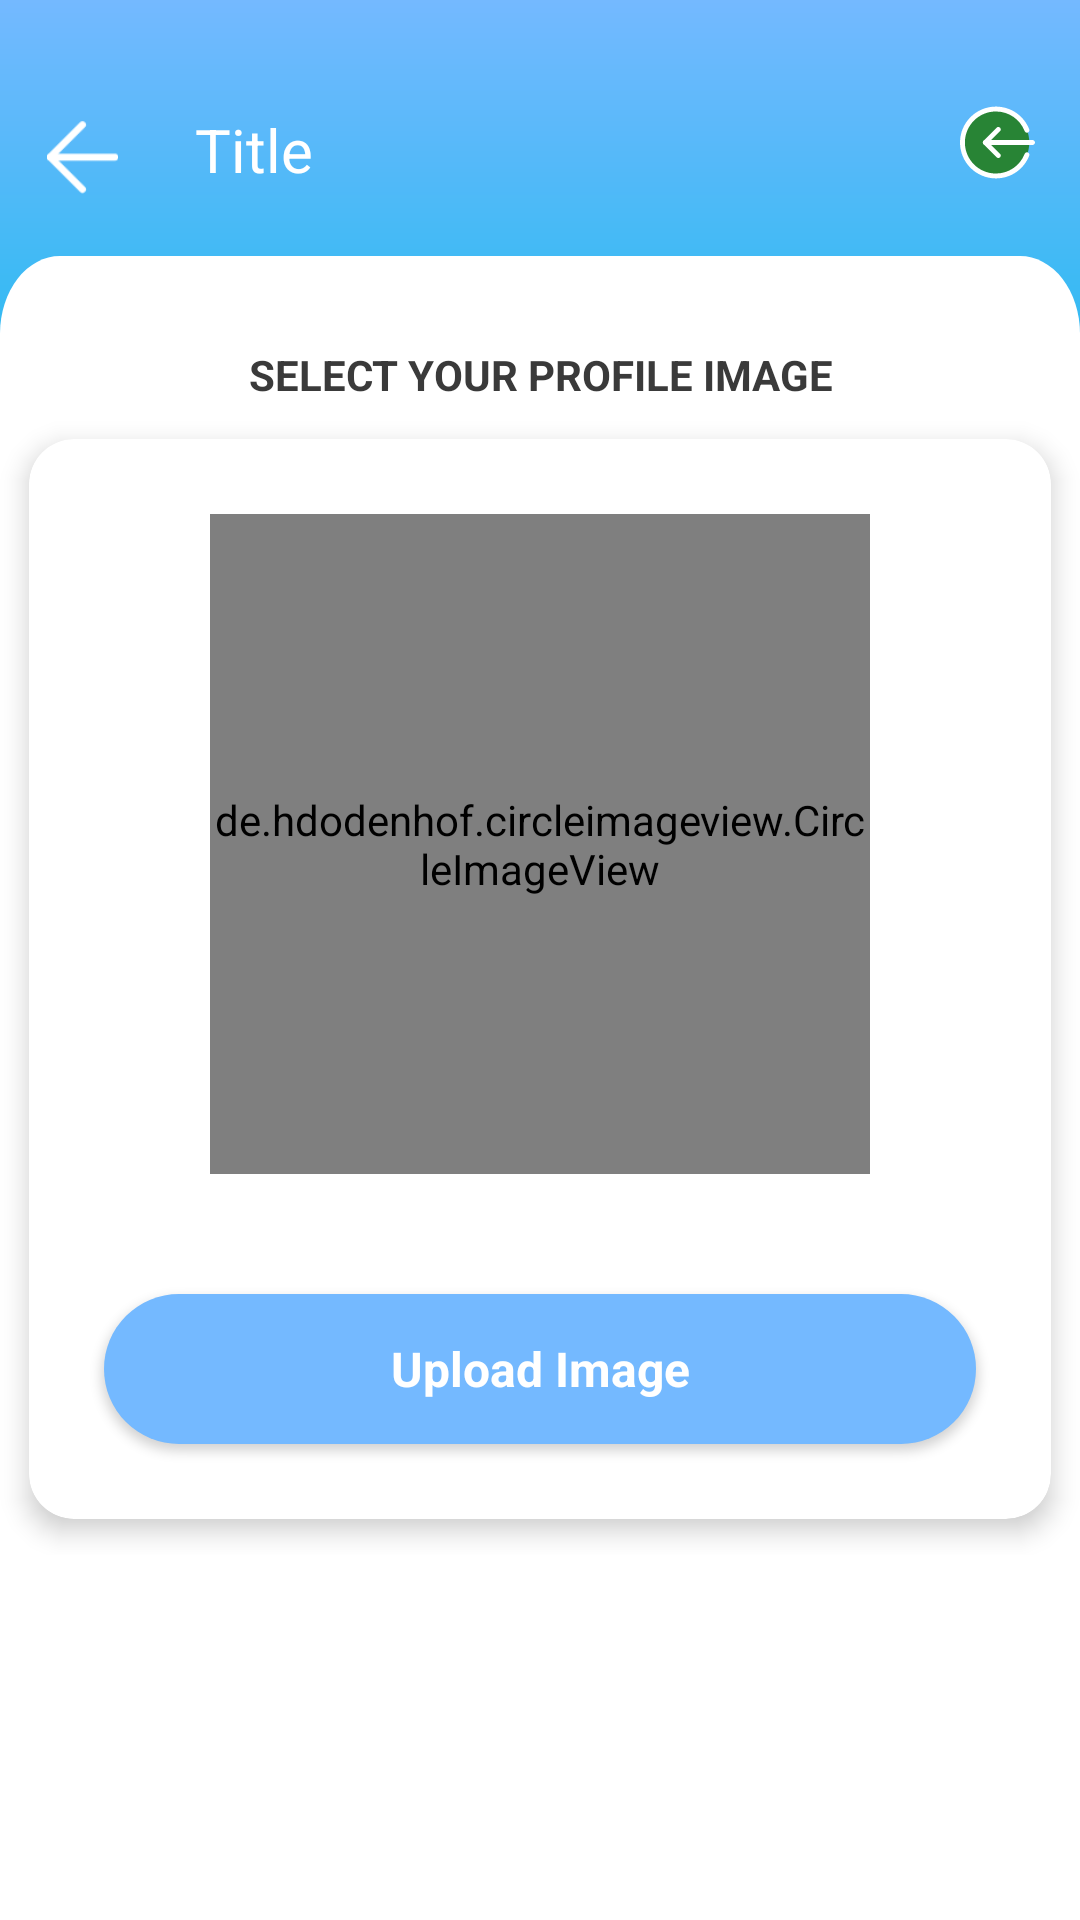

Named icons in this screenshot (1080x1920) and their bounding boxes, (x1, y1, x2, y2):
arrow left: (47, 121, 118, 193)
